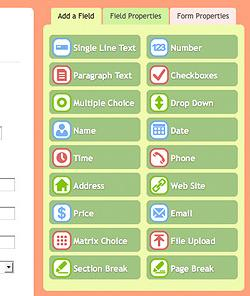button: (47, 88, 142, 115), (47, 33, 141, 60), (48, 225, 142, 252), (48, 253, 142, 280), (48, 198, 141, 225), (145, 253, 238, 280), (49, 171, 141, 198), (48, 116, 142, 142), (145, 61, 239, 87), (48, 144, 141, 170), (144, 33, 237, 59), (146, 116, 239, 142), (145, 144, 238, 170), (146, 199, 239, 225), (146, 226, 239, 252), (146, 89, 238, 115), (48, 62, 140, 87), (146, 172, 238, 197)
